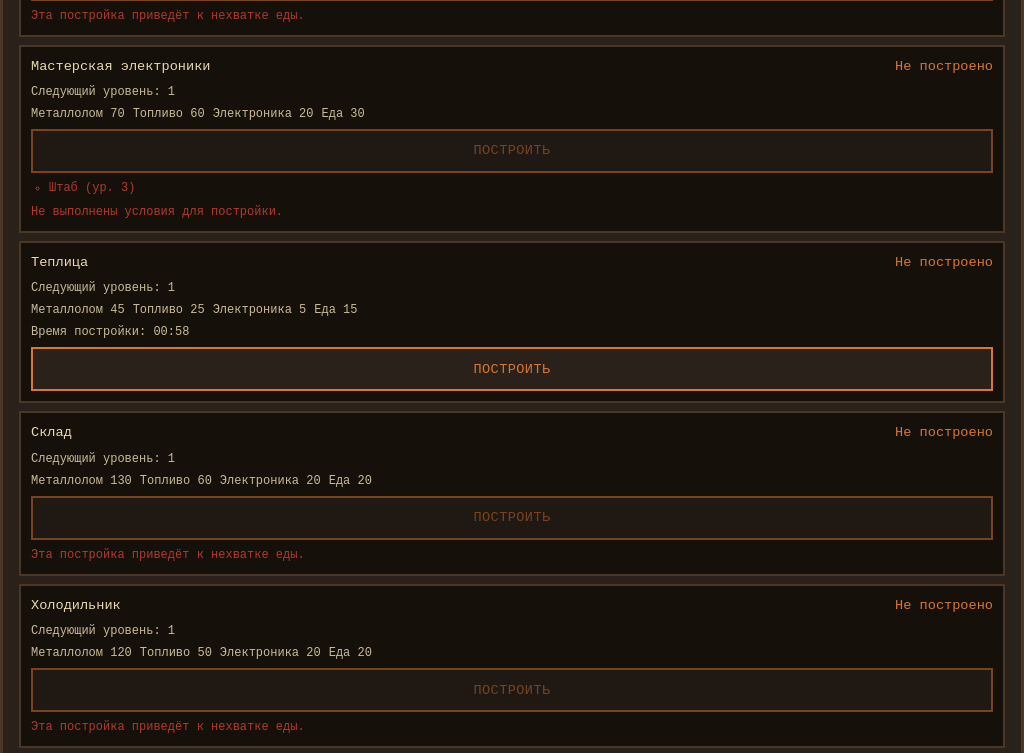
BaseScreen › renders the translated Russian message for a server wouldStarve error
(page scrolled)
Click the button "Построить" below "Теплица" at (512, 369), box x1=31 y1=347 x2=993 y2=391
(page scrolled)
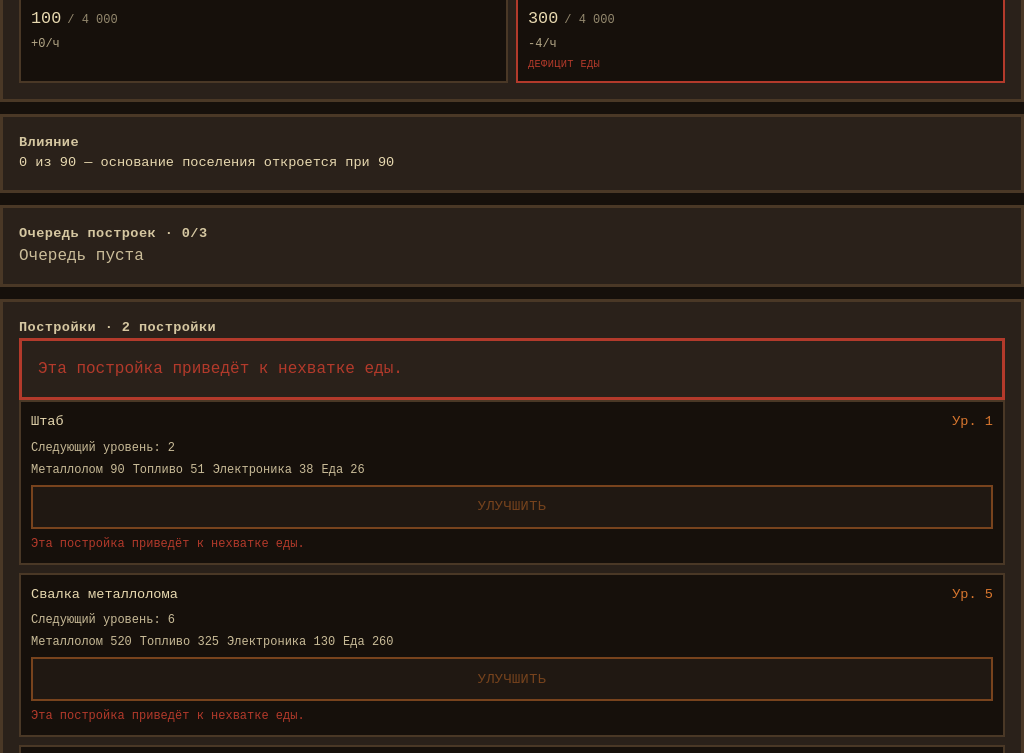
Check: the message reads "Эта постройка приведёт к нехватке еды.", box x1=38 y1=360 x2=403 y2=378
